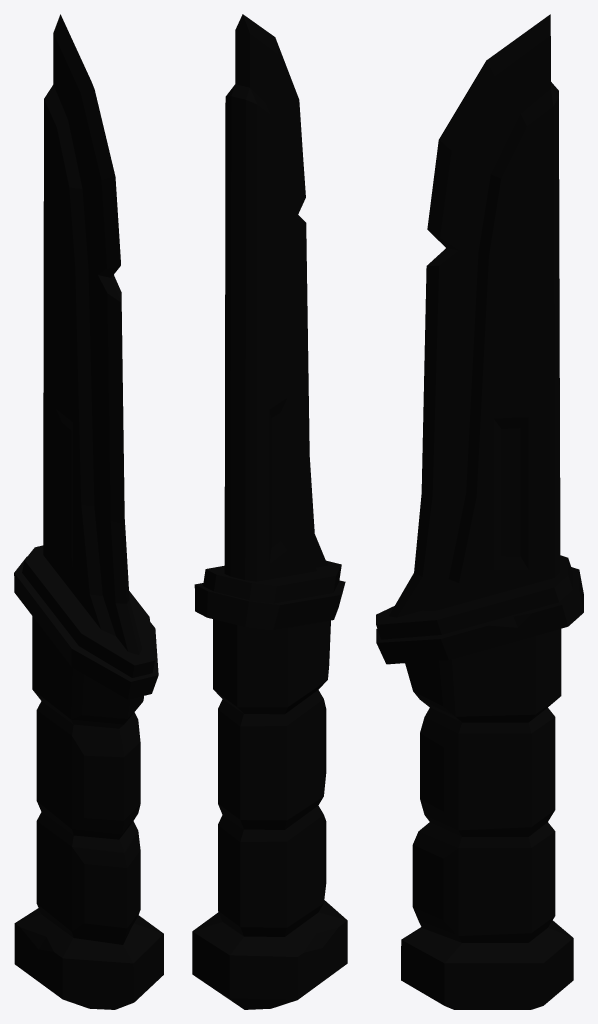
The model's file is cyber_SM_Wep_Dagger_01.gltf.
The picture shows the model from 3 angles, left to right: view 1: azimuth 30°, elevation 25°; view 2: azimuth 150°, elevation 25°; view 3: azimuth 270°, elevation 25°; orthographic projection. The views are drawn at different scales.
Visible parts, largest first — view 1: SM_Wep_Dagger_01; view 2: SM_Wep_Dagger_01; view 3: SM_Wep_Dagger_01.
Part boxes in pixels (left/top/right/bottom): SM_Wep_Dagger_01: left=14, top=14, right=163, bottom=1009; SM_Wep_Dagger_01: left=192, top=14, right=347, bottom=1009; SM_Wep_Dagger_01: left=376, top=14, right=583, bottom=1009.
Size of the model in its own units: 0.0555 by 0.5016 by 0.0957.
1 material, 1 textured.
